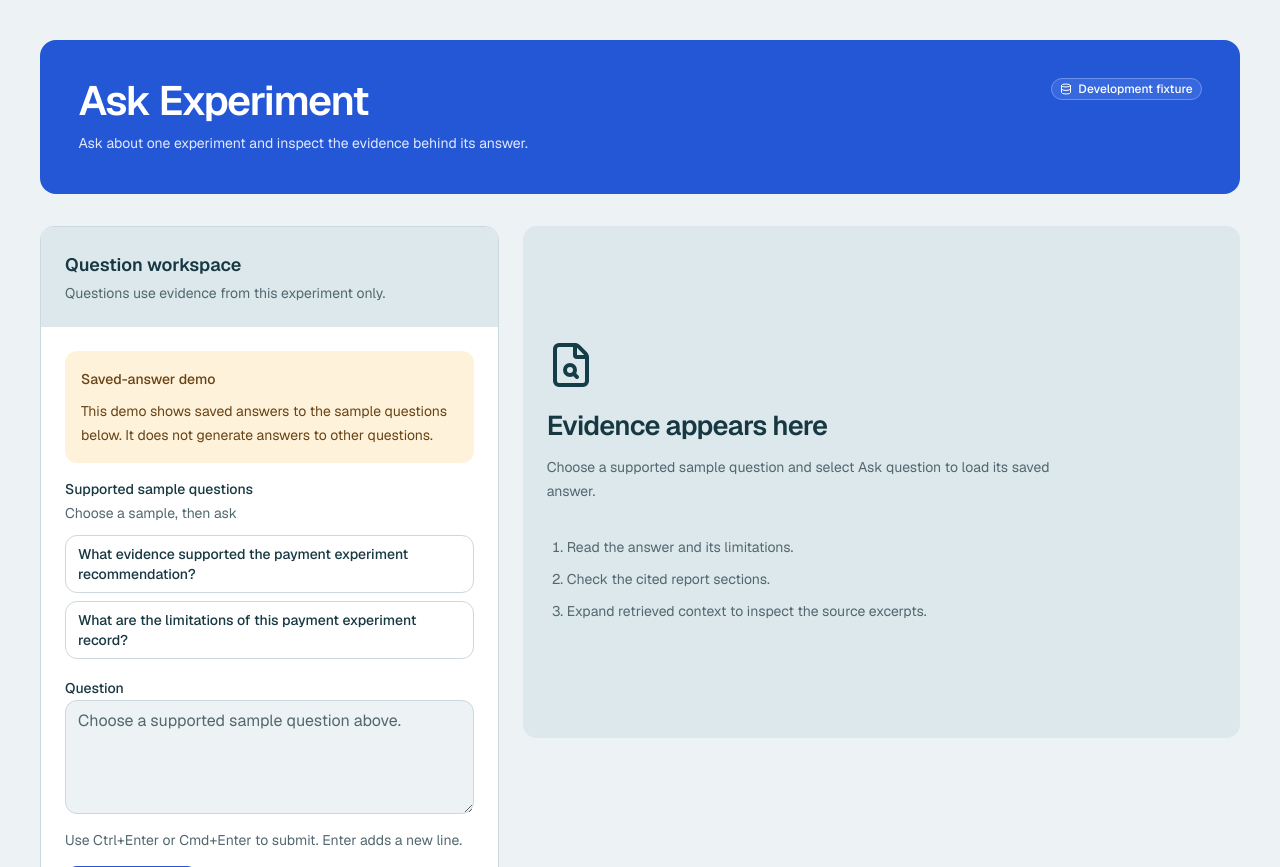
Scenario: Ask recovery and context integrity › takes a newcomer from a sample question to its cited evidence
The width and height of the screenshot is (1280, 867).
Expected: the text "Choose a sample, then ask" is shown, [65,504,237,522]
Click the button "What evidence supported the payment experiment recommendation?" at (269, 564), box [65,535,474,593]
(page scrolled)
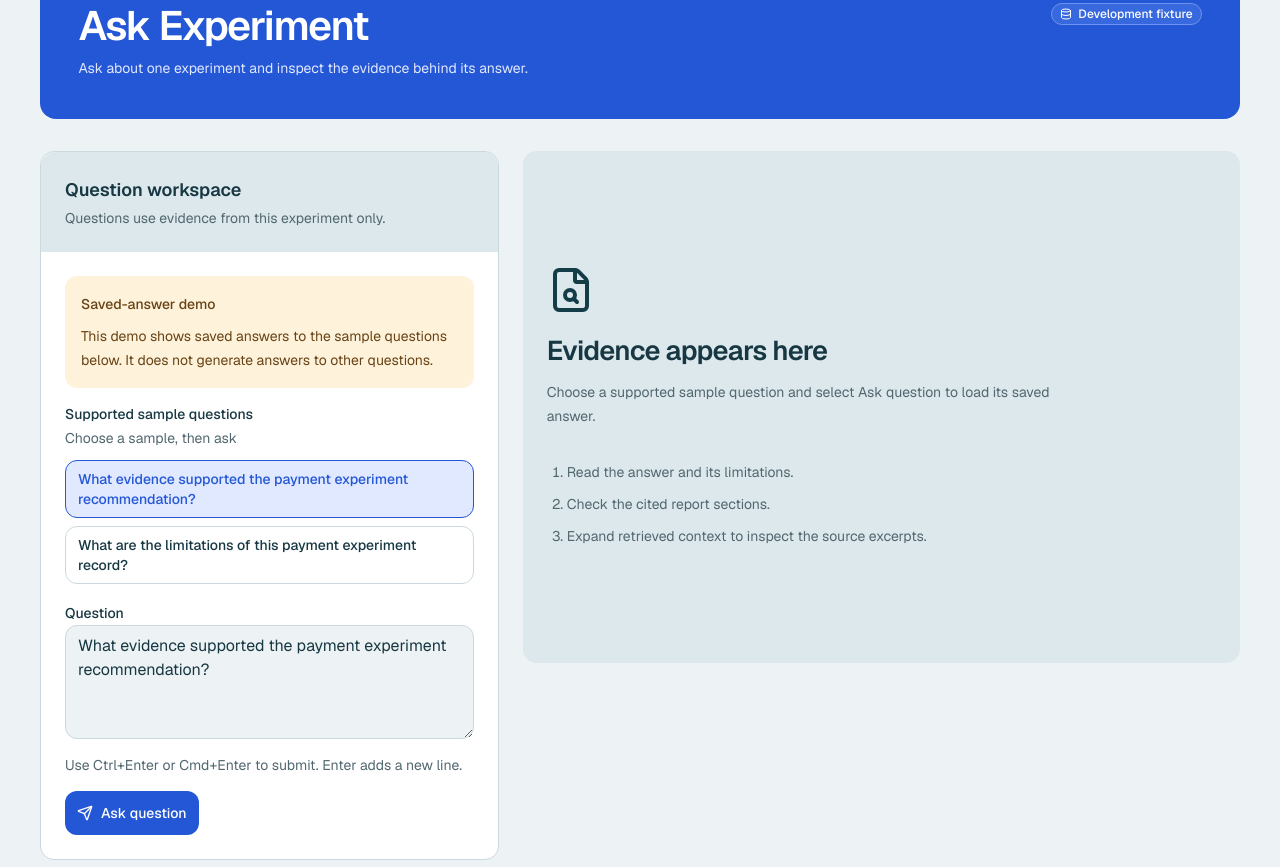
Expected: the text box labelled "Question" holds "What evidence supported the payment experiment recommendation?", [65,625,474,739]
Click the button "Ask question" at (132, 813), box [65,791,199,835]
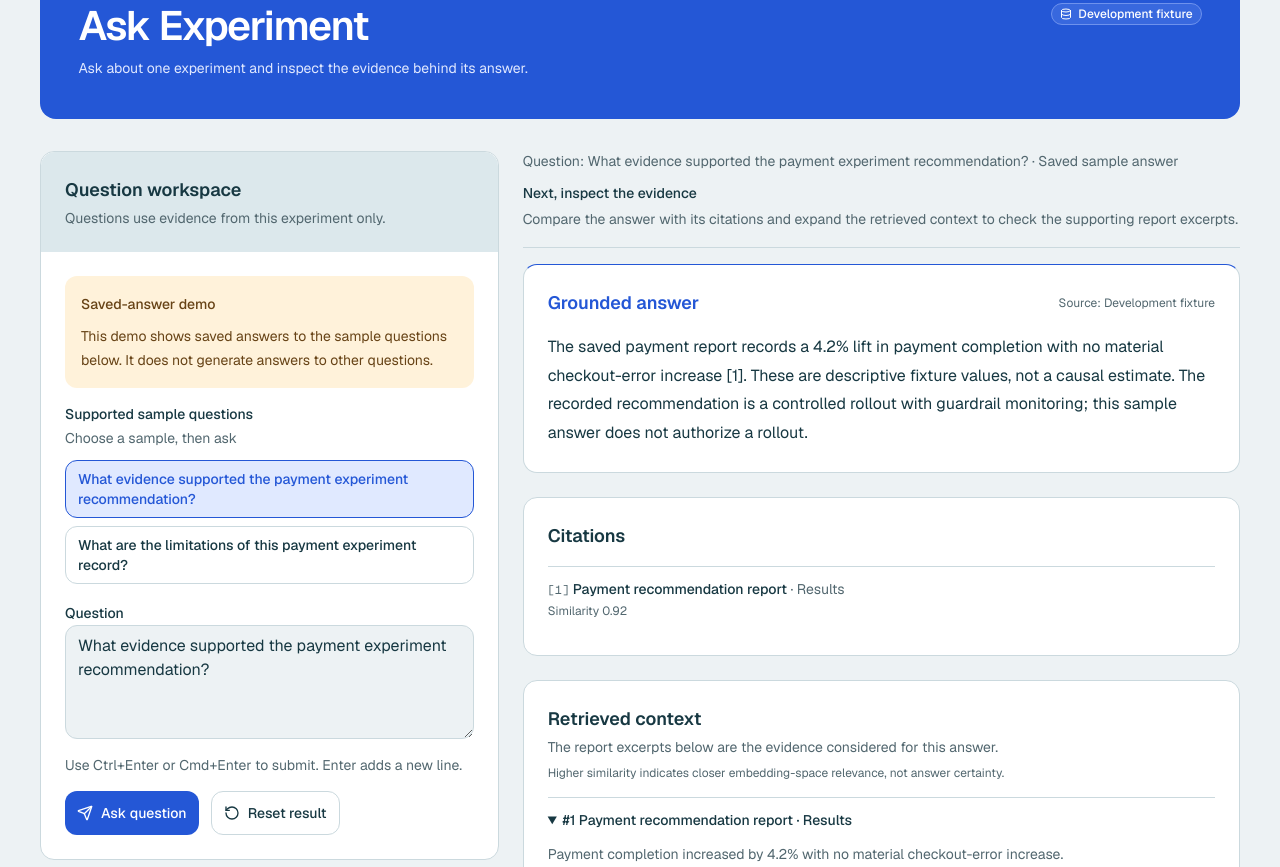
Expected: the heading "Citations" is shown, [548,524,625,547]
Expected: the heading "Next, inspect the evidence" is shown, [523,184,697,202]
